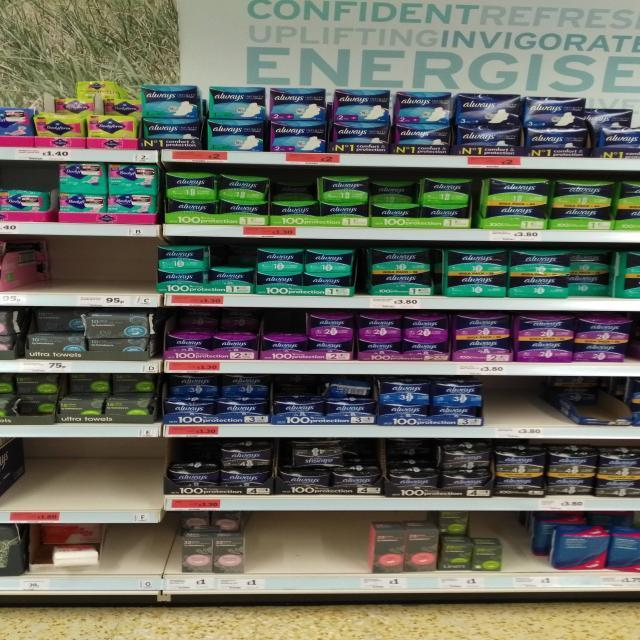empty: (26, 442, 159, 522), (248, 516, 362, 592), (52, 238, 154, 306), (108, 524, 173, 590), (489, 378, 547, 438), (501, 522, 532, 589)
